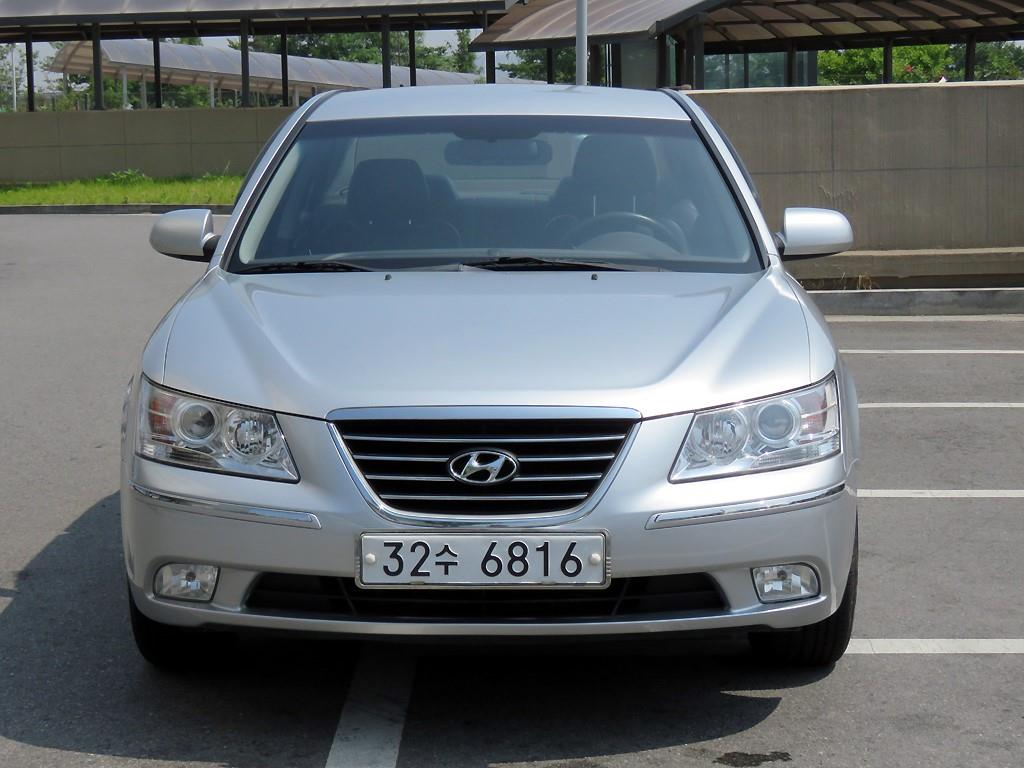plate: (362, 535, 604, 584)
